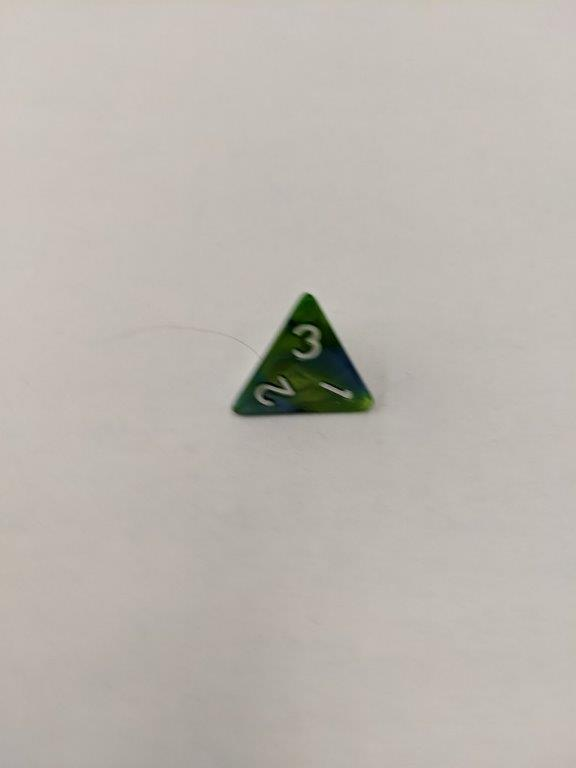d4-3: (228, 291, 379, 422)
